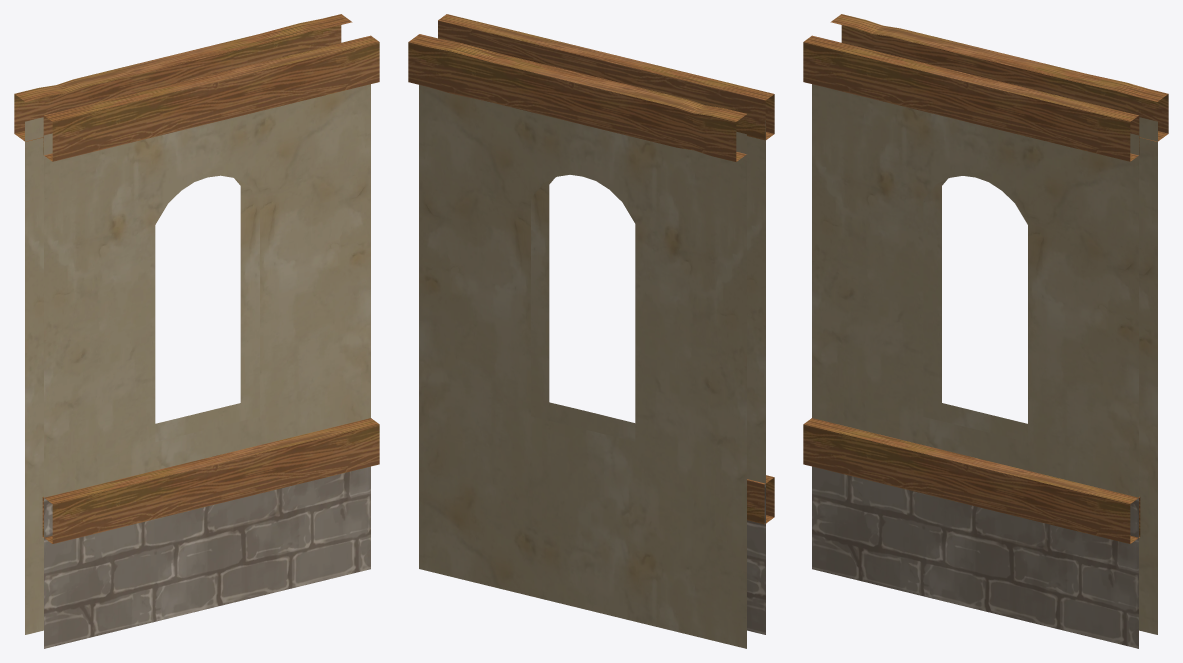
File: Wall_Plaster_Window_Thin_Round.glb
3 renders of one model, left to right at view 1: azimuth 30°, elevation 25°; view 2: azimuth 150°, elevation 25°; view 3: azimuth 330°, elevation 25°, orthographic.
Visible parts, largest first — view 1: Wall_Plaster_Window_Thin_Round; view 2: Wall_Plaster_Window_Thin_Round; view 3: Wall_Plaster_Window_Thin_Round.
Boxes of the visible parts, left/top/right/bottom form: Wall_Plaster_Window_Thin_Round: left=14, top=14, right=379, bottom=648; Wall_Plaster_Window_Thin_Round: left=408, top=14, right=774, bottom=648; Wall_Plaster_Window_Thin_Round: left=803, top=14, right=1168, bottom=648.
Size of the model in its own units: 2 by 3.12 by 0.4064.
Materials: 3 (3 with a texture image).
